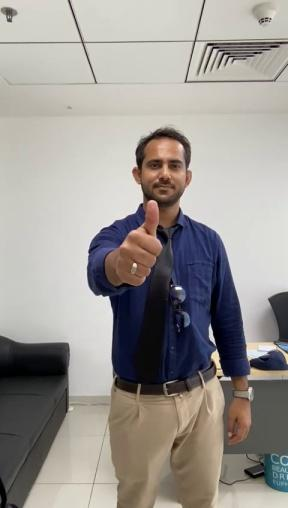thumbs-up: (112, 199, 166, 286)
